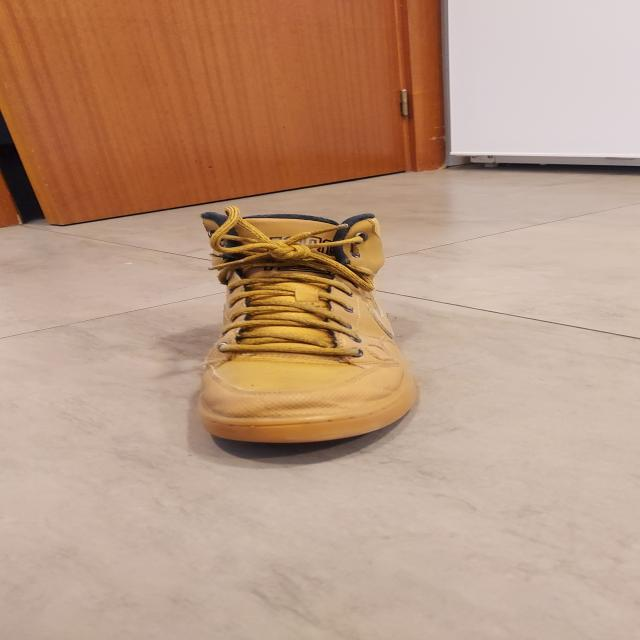shoe: (193, 208, 419, 445)
